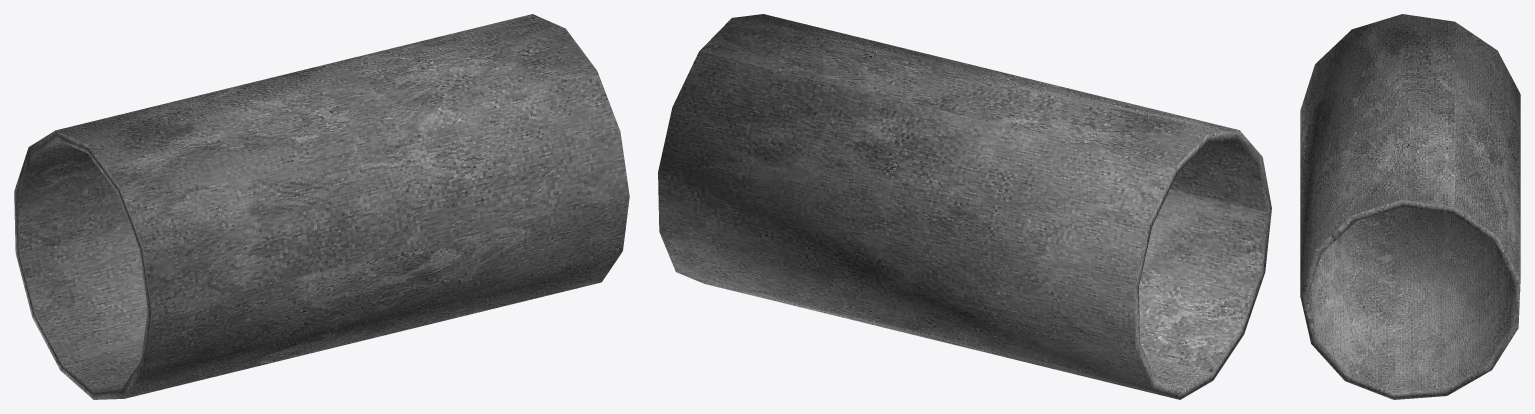
The model's file is concrete_pipe.glb.
3 renders of one model, left to right at view 1: azimuth 30°, elevation 25°; view 2: azimuth 150°, elevation 25°; view 3: azimuth 270°, elevation 25°, orthographic. The views are drawn at different scales.
Visible parts, largest first — view 1: main-col; view 2: main-col; view 3: main-col.
Part boxes in pixels (bbox=[...]): main-col: bbox=[14, 14, 629, 399]; main-col: bbox=[658, 14, 1271, 399]; main-col: bbox=[1300, 14, 1520, 399].
Size of the model in its own units: 3.02 by 1.52 by 1.51.
Materials: 1 (1 with a texture image).
